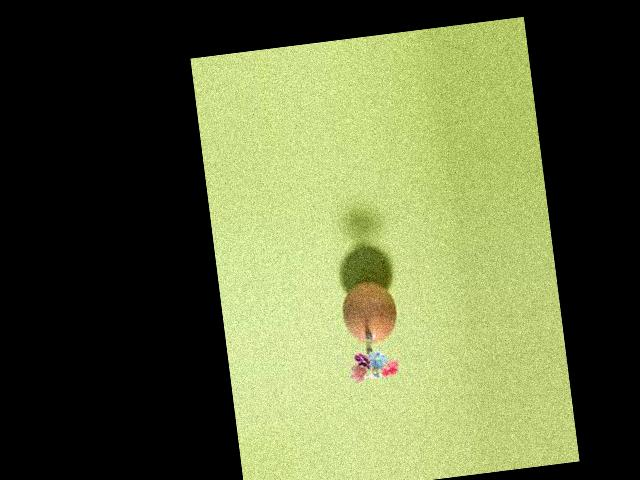egg: (339, 277, 398, 345)
